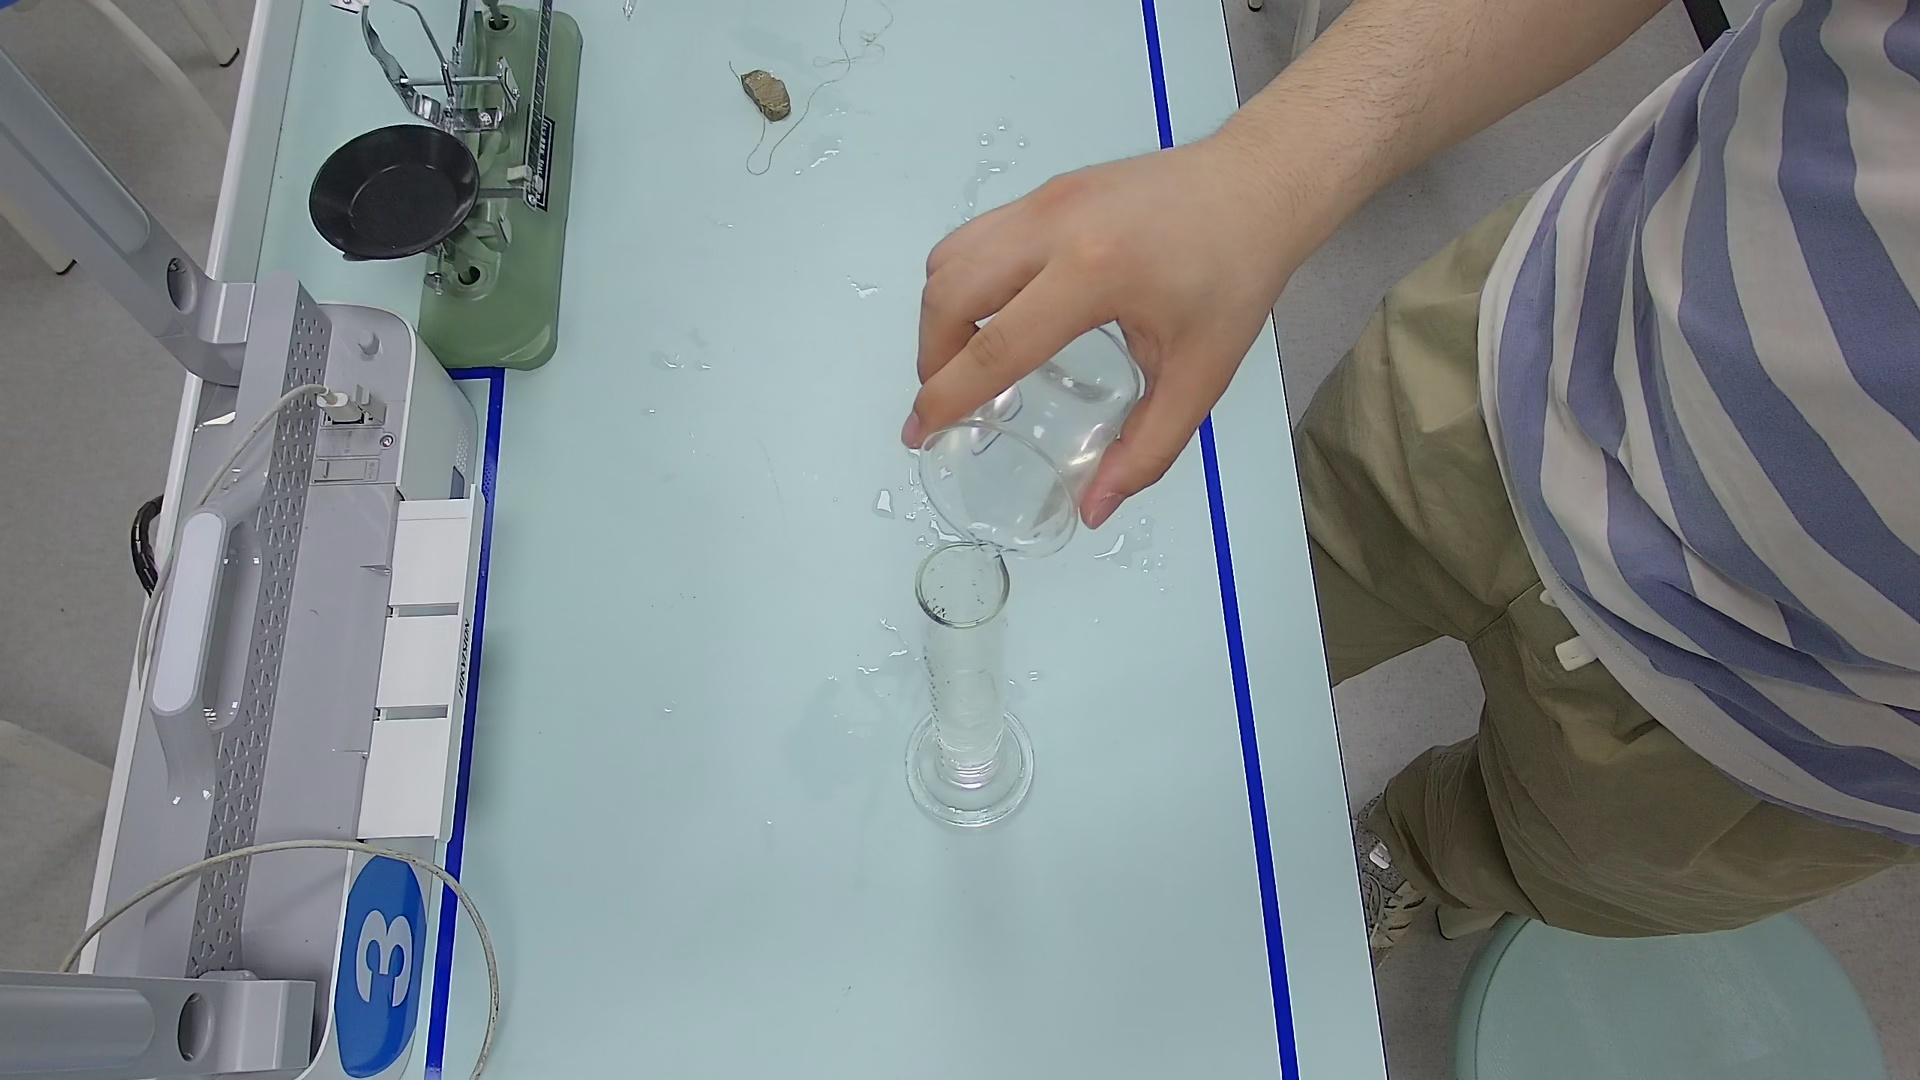bei: (916, 320, 1145, 568)
hand: (898, 149, 1279, 537)
liangdi: (899, 713, 1044, 832)
liangtong: (899, 537, 1035, 836)
shi: (741, 70, 799, 127)
tuo: (307, 121, 484, 260)
